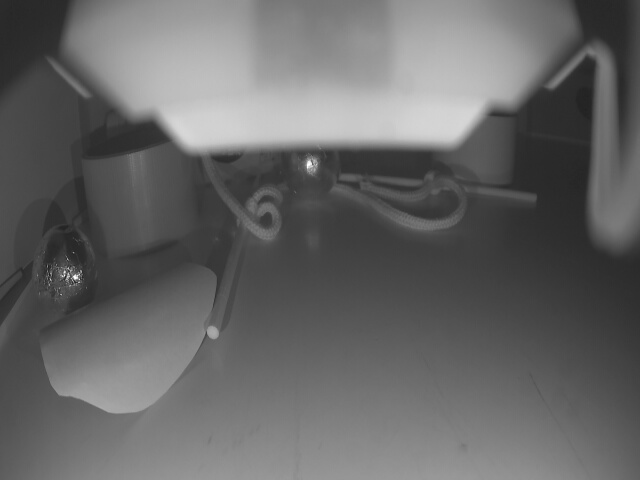Live: (33, 226, 96, 316), (284, 135, 342, 201)
